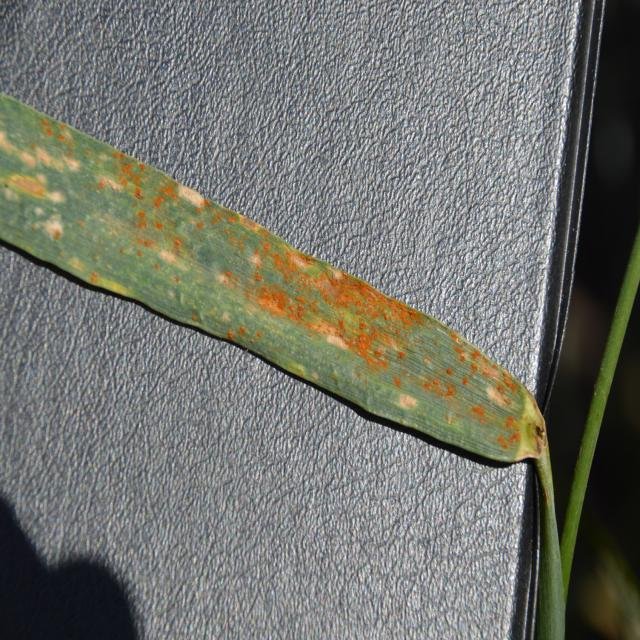wheat-powdery-mildew: (39, 113, 433, 379), (421, 332, 521, 458), (225, 322, 259, 351), (52, 222, 65, 243), (394, 374, 405, 396), (188, 312, 202, 329), (28, 139, 40, 158)
